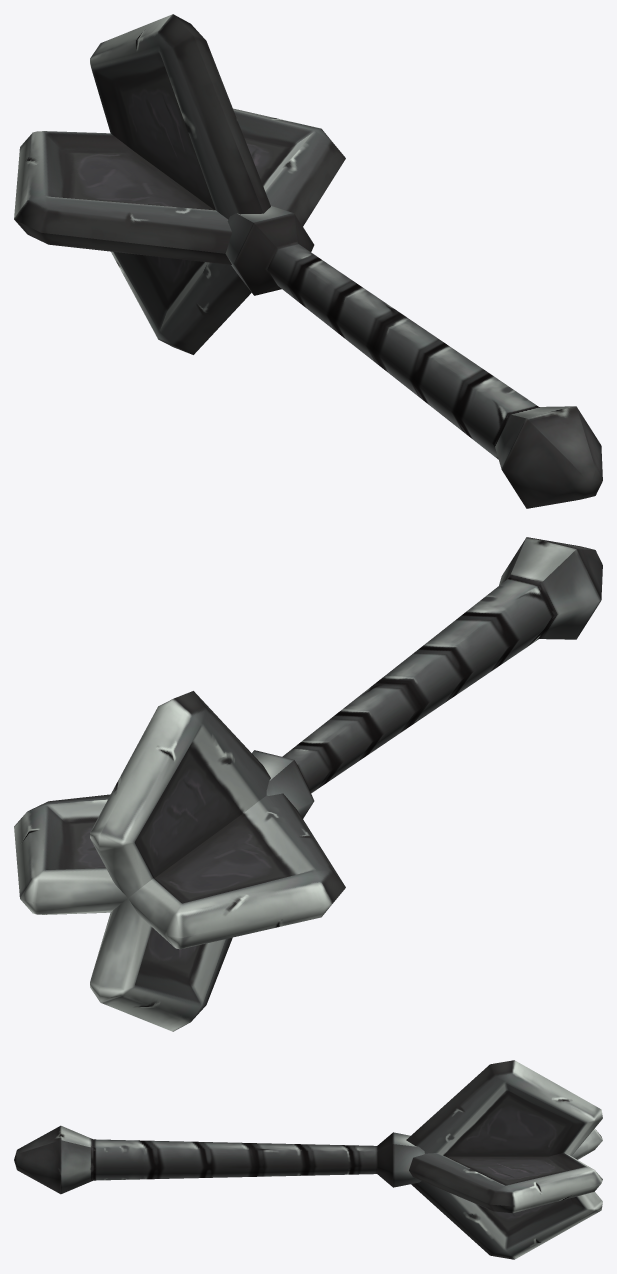
Rendered from Mace04.fbx.
3 views of the same model, one above another, from view 1: azimuth 30°, elevation 25°; view 2: azimuth 150°, elevation 25°; view 3: azimuth 270°, elevation 25° (orthographic). The views are drawn at different scales.
Visible parts, largest first — view 1: Mace04_el1, Mace04_el2; view 2: Mace04_el1, Mace04_el2; view 3: Mace04_el1, Mace04_el2.
Boxes of the visible parts, <box> form: Mace04_el1: <box>14,14,345,354</box>; Mace04_el2: <box>225,206,602,508</box>; Mace04_el1: <box>14,691,345,1031</box>; Mace04_el2: <box>252,537,602,818</box>; Mace04_el1: <box>406,1060,602,1259</box>; Mace04_el2: <box>14,1125,424,1194</box>.
Size of the model in its own units: 0.299 by 0.299 by 0.7992.
